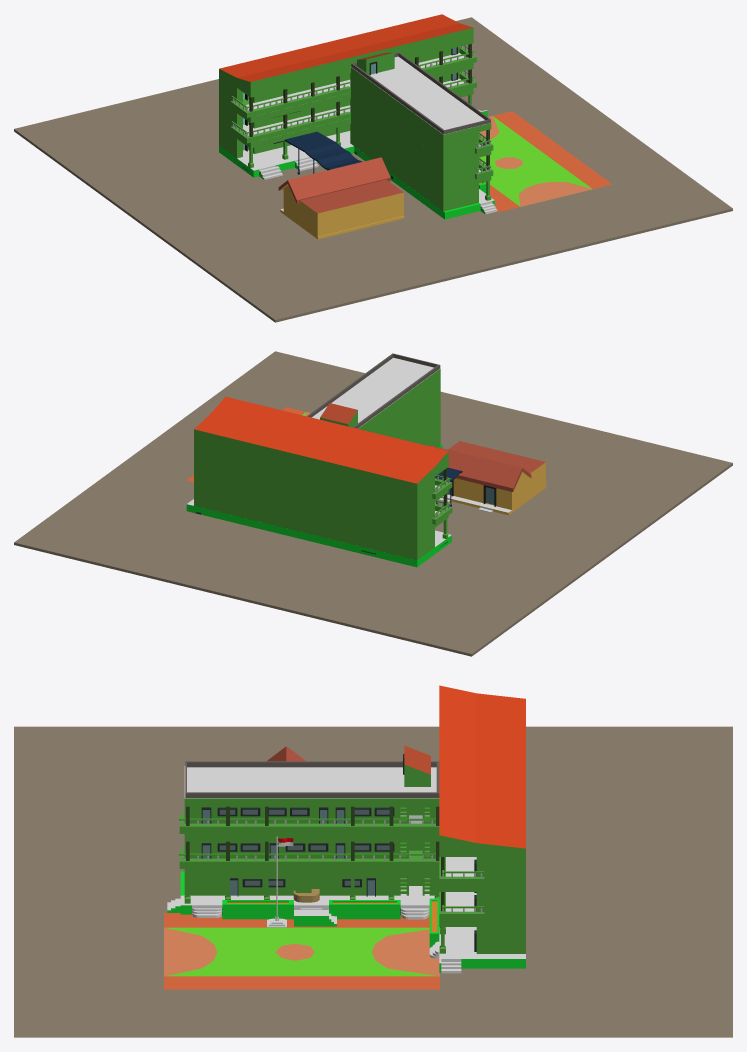
Rendered from sekolah-draco.glb.
3 views of the same model, one above another, from view 1: azimuth 30°, elevation 25°; view 2: azimuth 150°, elevation 25°; view 3: azimuth 270°, elevation 25° (orthographic). The views are drawn at different scales.
Parts seen in each view (by area): view 1: lantai, bangunan lantai 2.003, bangunan lantai 2.002, Plane, ruang ukas dan ruang osis, bangunan lantai 2, bangunan lantai 2.001, bangunan lantai satu, lantai.001, bangunan lantai 1, tiang penyangga, pembatas rooftop (+1 smaller); view 2: lantai, bangunan lantai 2.003, bangunan lantai 2, bangunan lantai 1, ruang ukas dan ruang osis, bangunan lantai 2.002, lantai.001, bangunan lantai 2.001, pembatas rooftop, pintu rooftop; view 3: lantai, Plane, bangunan lantai 2.003, bangunan lantai 2.002, lantai.001, bangunan lantai 2.001, bangunan lantai satu, pembatas rooftop, bangunan lantai 2, bangunan lantai 1, pintu rooftop.
Part boxes in pixels (x1,y1,x2,y2): lantai: (14,17,732,322); bangunan lantai 2.003: (219,14,476,117); bangunan lantai 2.002: (231,45,493,160); Plane: (479,111,612,212); ruang ukas dan ruang osis: (278,157,404,239); bangunan lantai 2: (219,53,476,143); bangunan lantai 2.001: (231,71,493,185); bangunan lantai satu: (350,118,491,211); lantai.001: (219,109,497,219); bangunan lantai 1: (219,78,473,167); tiang penyangga: (284,131,362,174); pembatas rooftop: (351,52,490,134); lantai: (14,351,732,656); bangunan lantai 2.003: (194,396,452,509); bangunan lantai 2: (194,455,452,534); bangunan lantai 1: (194,480,448,560); ruang ukas dan ruang osis: (428,441,546,515); bangunan lantai 2.002: (312,357,451,493); lantai.001: (186,444,451,567); bangunan lantai 2.001: (384,394,451,518); pembatas rooftop: (307,353,440,428); pintu rooftop: (320,403,357,427); lantai: (14,726,732,1037); Plane: (164,913,439,989); bangunan lantai 2.003: (439,685,525,885); bangunan lantai 2.002: (179,766,484,878); lantai.001: (167,871,525,973); bangunan lantai 2.001: (179,815,484,913); bangunan lantai satu: (184,850,439,903); pembatas rooftop: (185,761,439,797); bangunan lantai 2: (439,857,525,920); bangunan lantai 1: (439,892,525,953); pintu rooftop: (403,745,430,786).
Bounding box in the file's own units: 36.93 × 7.91 × 36.51.
